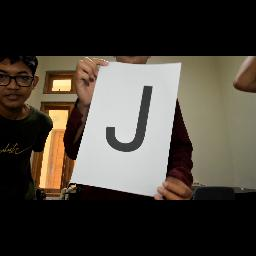j: (103, 82, 155, 154)
